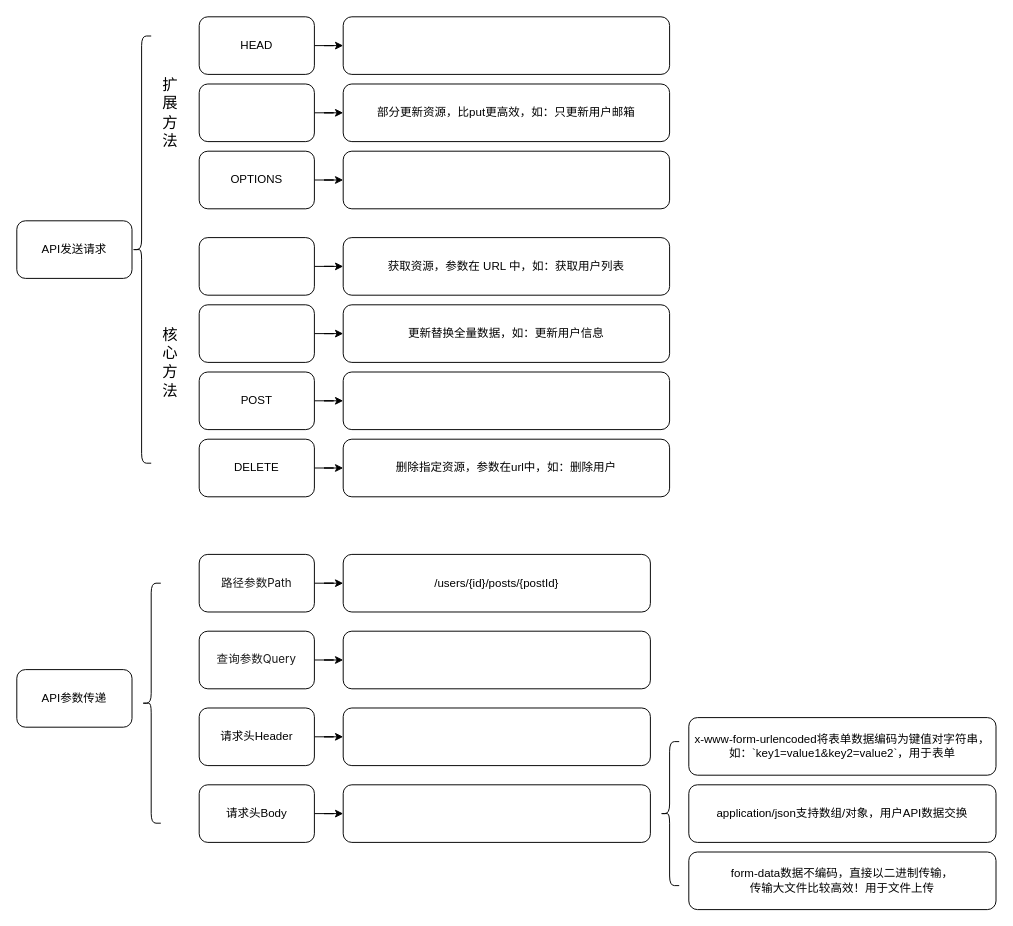
Some shapes in this 1013 by 926 pixel diagram are drawn without their labels. The shapes that lost their labels are listed below. From the top down, each one's centre as x and y in pixels, then its label:
[506,45]: 获取元数据，不返回响应体，如：用户是否存在
[256,112]: PATCH
[506,179]: 用于 CORS 预检请求，如：跨域权限检测
[256,266]: GET
[256,333]: PUT
[506,400]: 创建新资源，数据在请求体中，如：创建新用户/文件上传
[496,659]: ?page=2&size=20&sort=name
[496,736]: Authorization认证
[496,813]: JSON/x-www-form-urlencoded /Form-Data
